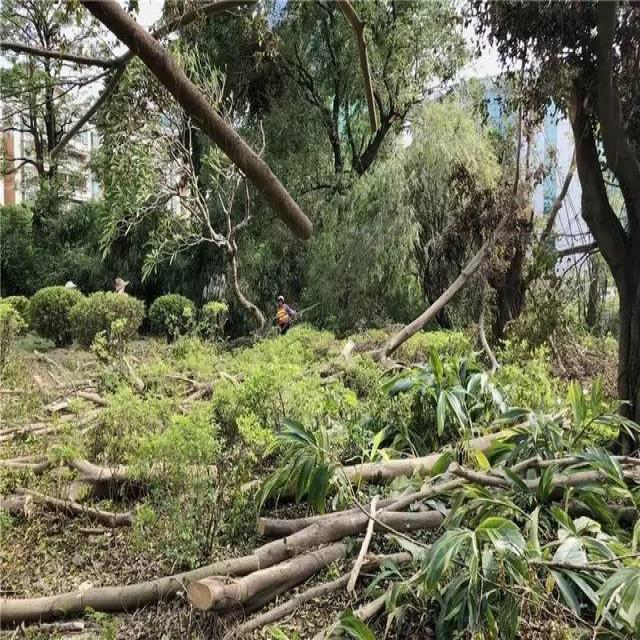fallen_object: (1, 506, 488, 628), (73, 408, 557, 493), (350, 213, 514, 369)
